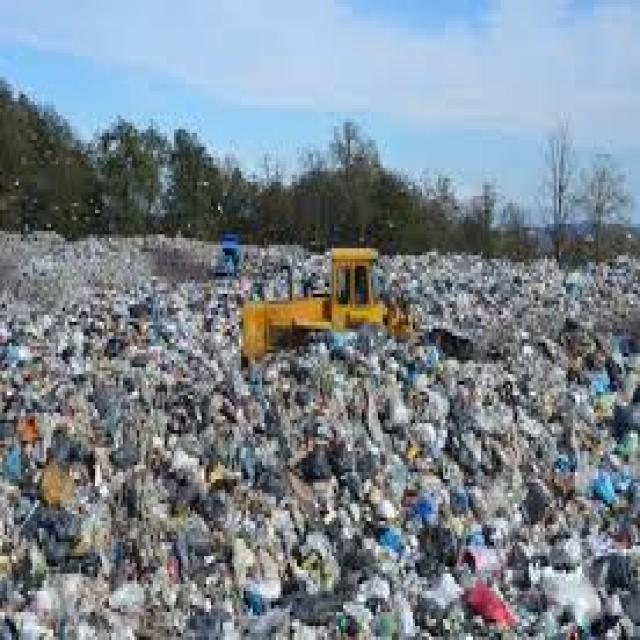heap: (133, 382, 632, 599)
